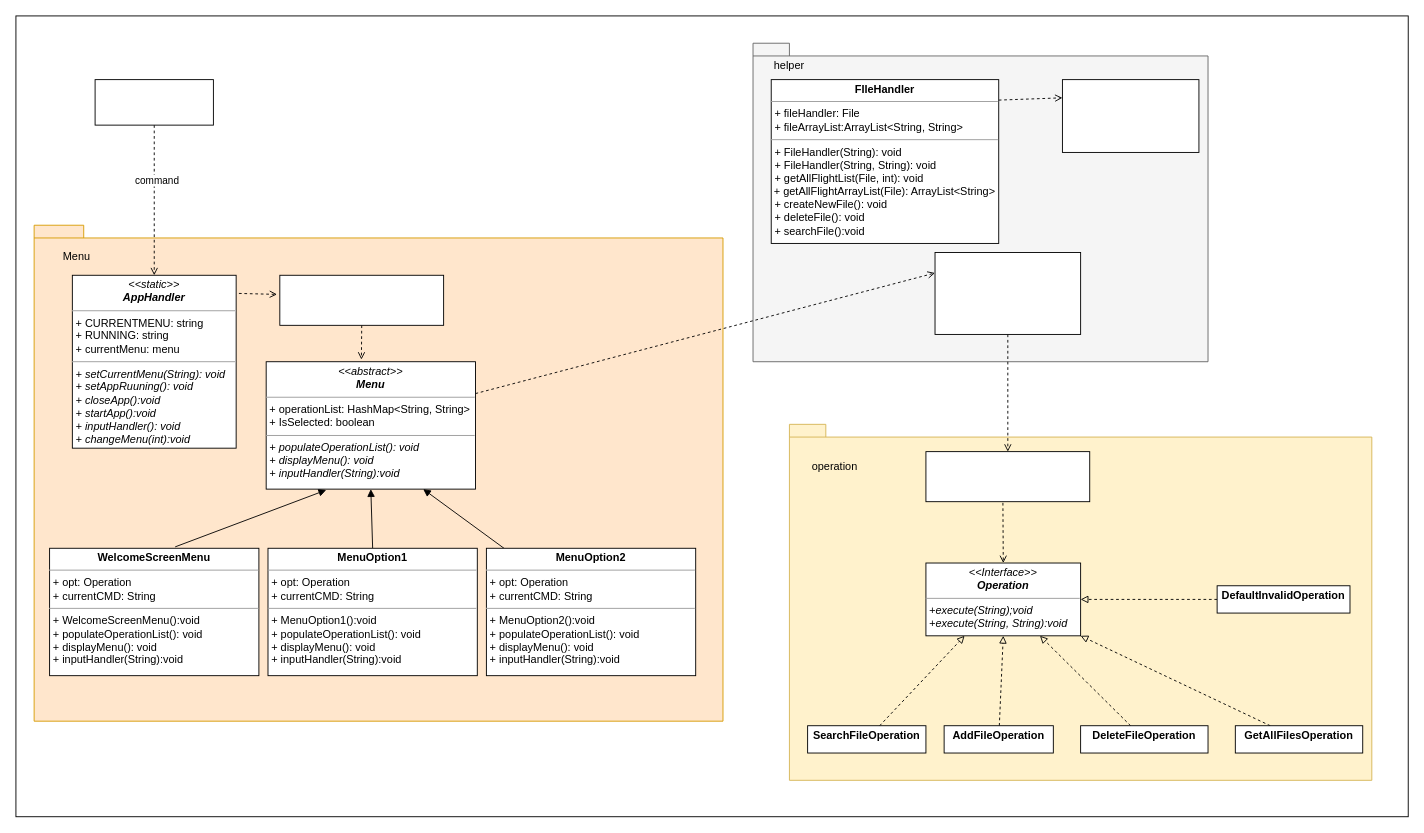
This 1424x833 diagram has some shape labels left out. Each missing label, with the centre of its shape:
<<static>> CommandParser + opt: Operation + inputHandler(): void: the point at 1007,293
AppStart + main(): void: the point at 153,102
EmptyFileList + emptyFileList: File[] + getEmptyFileList(): File[]: the point at 1130,115
MenuBuilder +getMenu (int);Menu: the point at 361,299
OperationBuilder +getOperation (String);Operation: the point at 1007,476
